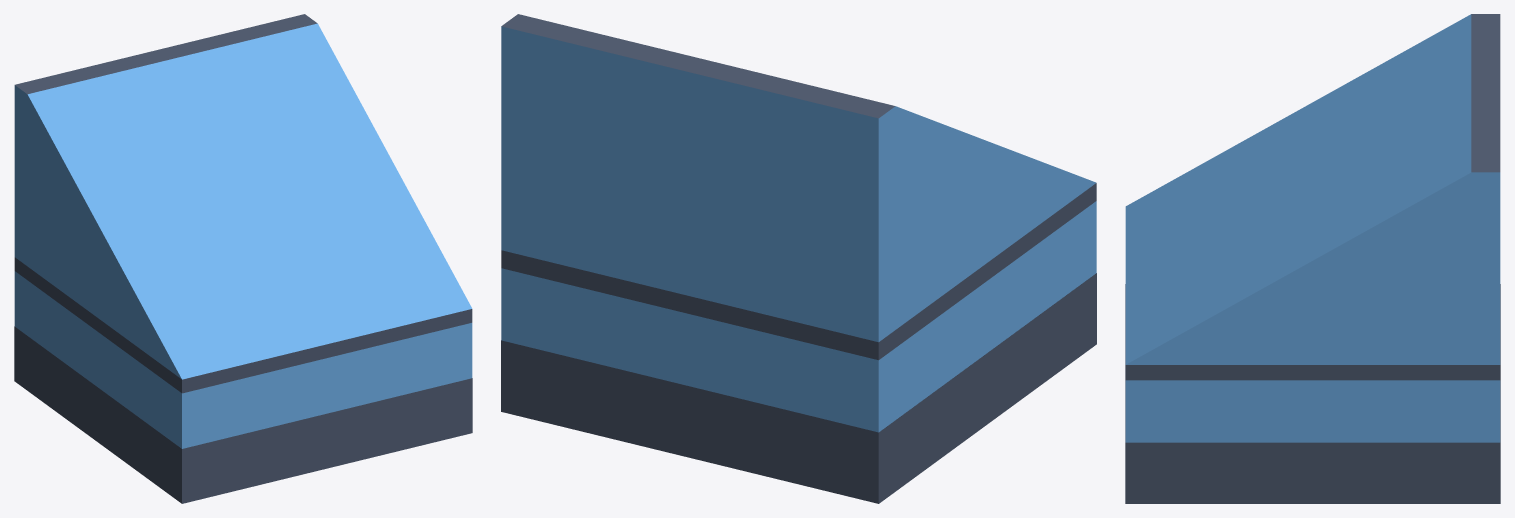
File: building_1x1_9_r.glb
3 renders of one model, left to right at view 1: azimuth 30°, elevation 25°; view 2: azimuth 150°, elevation 25°; view 3: azimuth 270°, elevation 25°, orthographic. The views are drawn at different scales.
Visible parts, largest first — view 1: Cube.008; view 2: Cube.008; view 3: Cube.008.
Part boxes in pixels (x1,y1,x2,y2): Cube.008: (14,14,472,503); Cube.008: (501,14,1096,503); Cube.008: (1125,14,1500,503).
Bounding box in the file's own units: 1.64 × 1.6 × 1.64.
